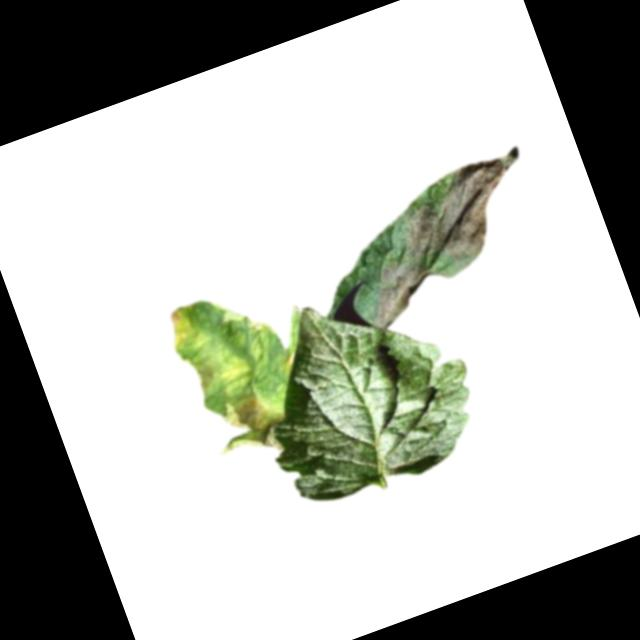Late_blight: (389, 145, 545, 273), (201, 383, 295, 469), (355, 248, 439, 331), (184, 348, 229, 400), (162, 302, 200, 351)
healthy: (228, 262, 498, 521)
